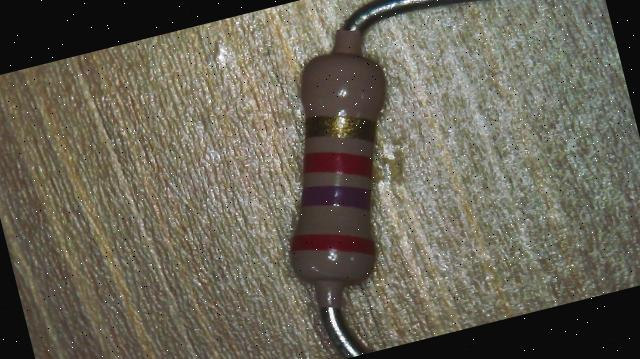gold: (302, 102, 378, 150)
red: (288, 217, 376, 273), (299, 138, 376, 192)
resistor: (268, 26, 402, 292)
violet: (297, 171, 373, 224)
